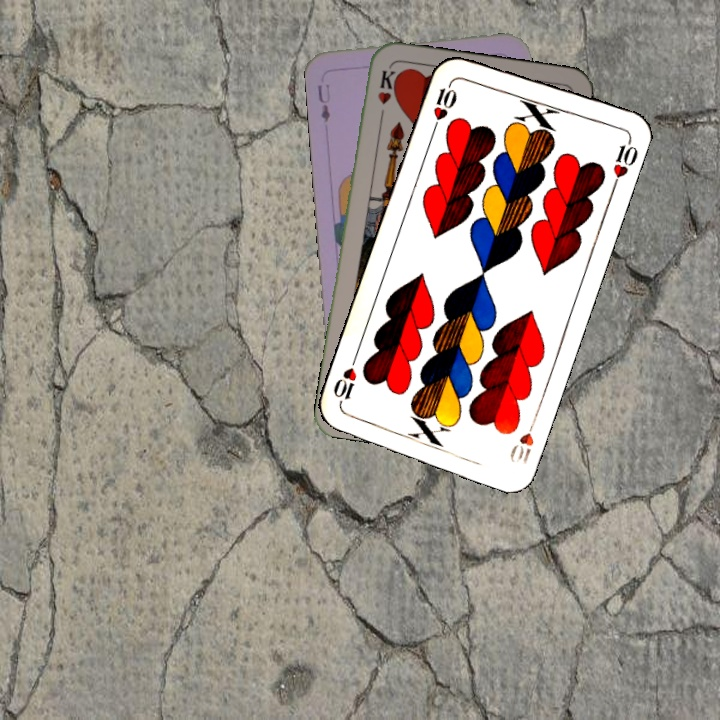EU: (313, 81, 332, 125)
H10: (505, 412, 540, 466), (429, 76, 460, 133)
HK: (374, 66, 398, 124)
